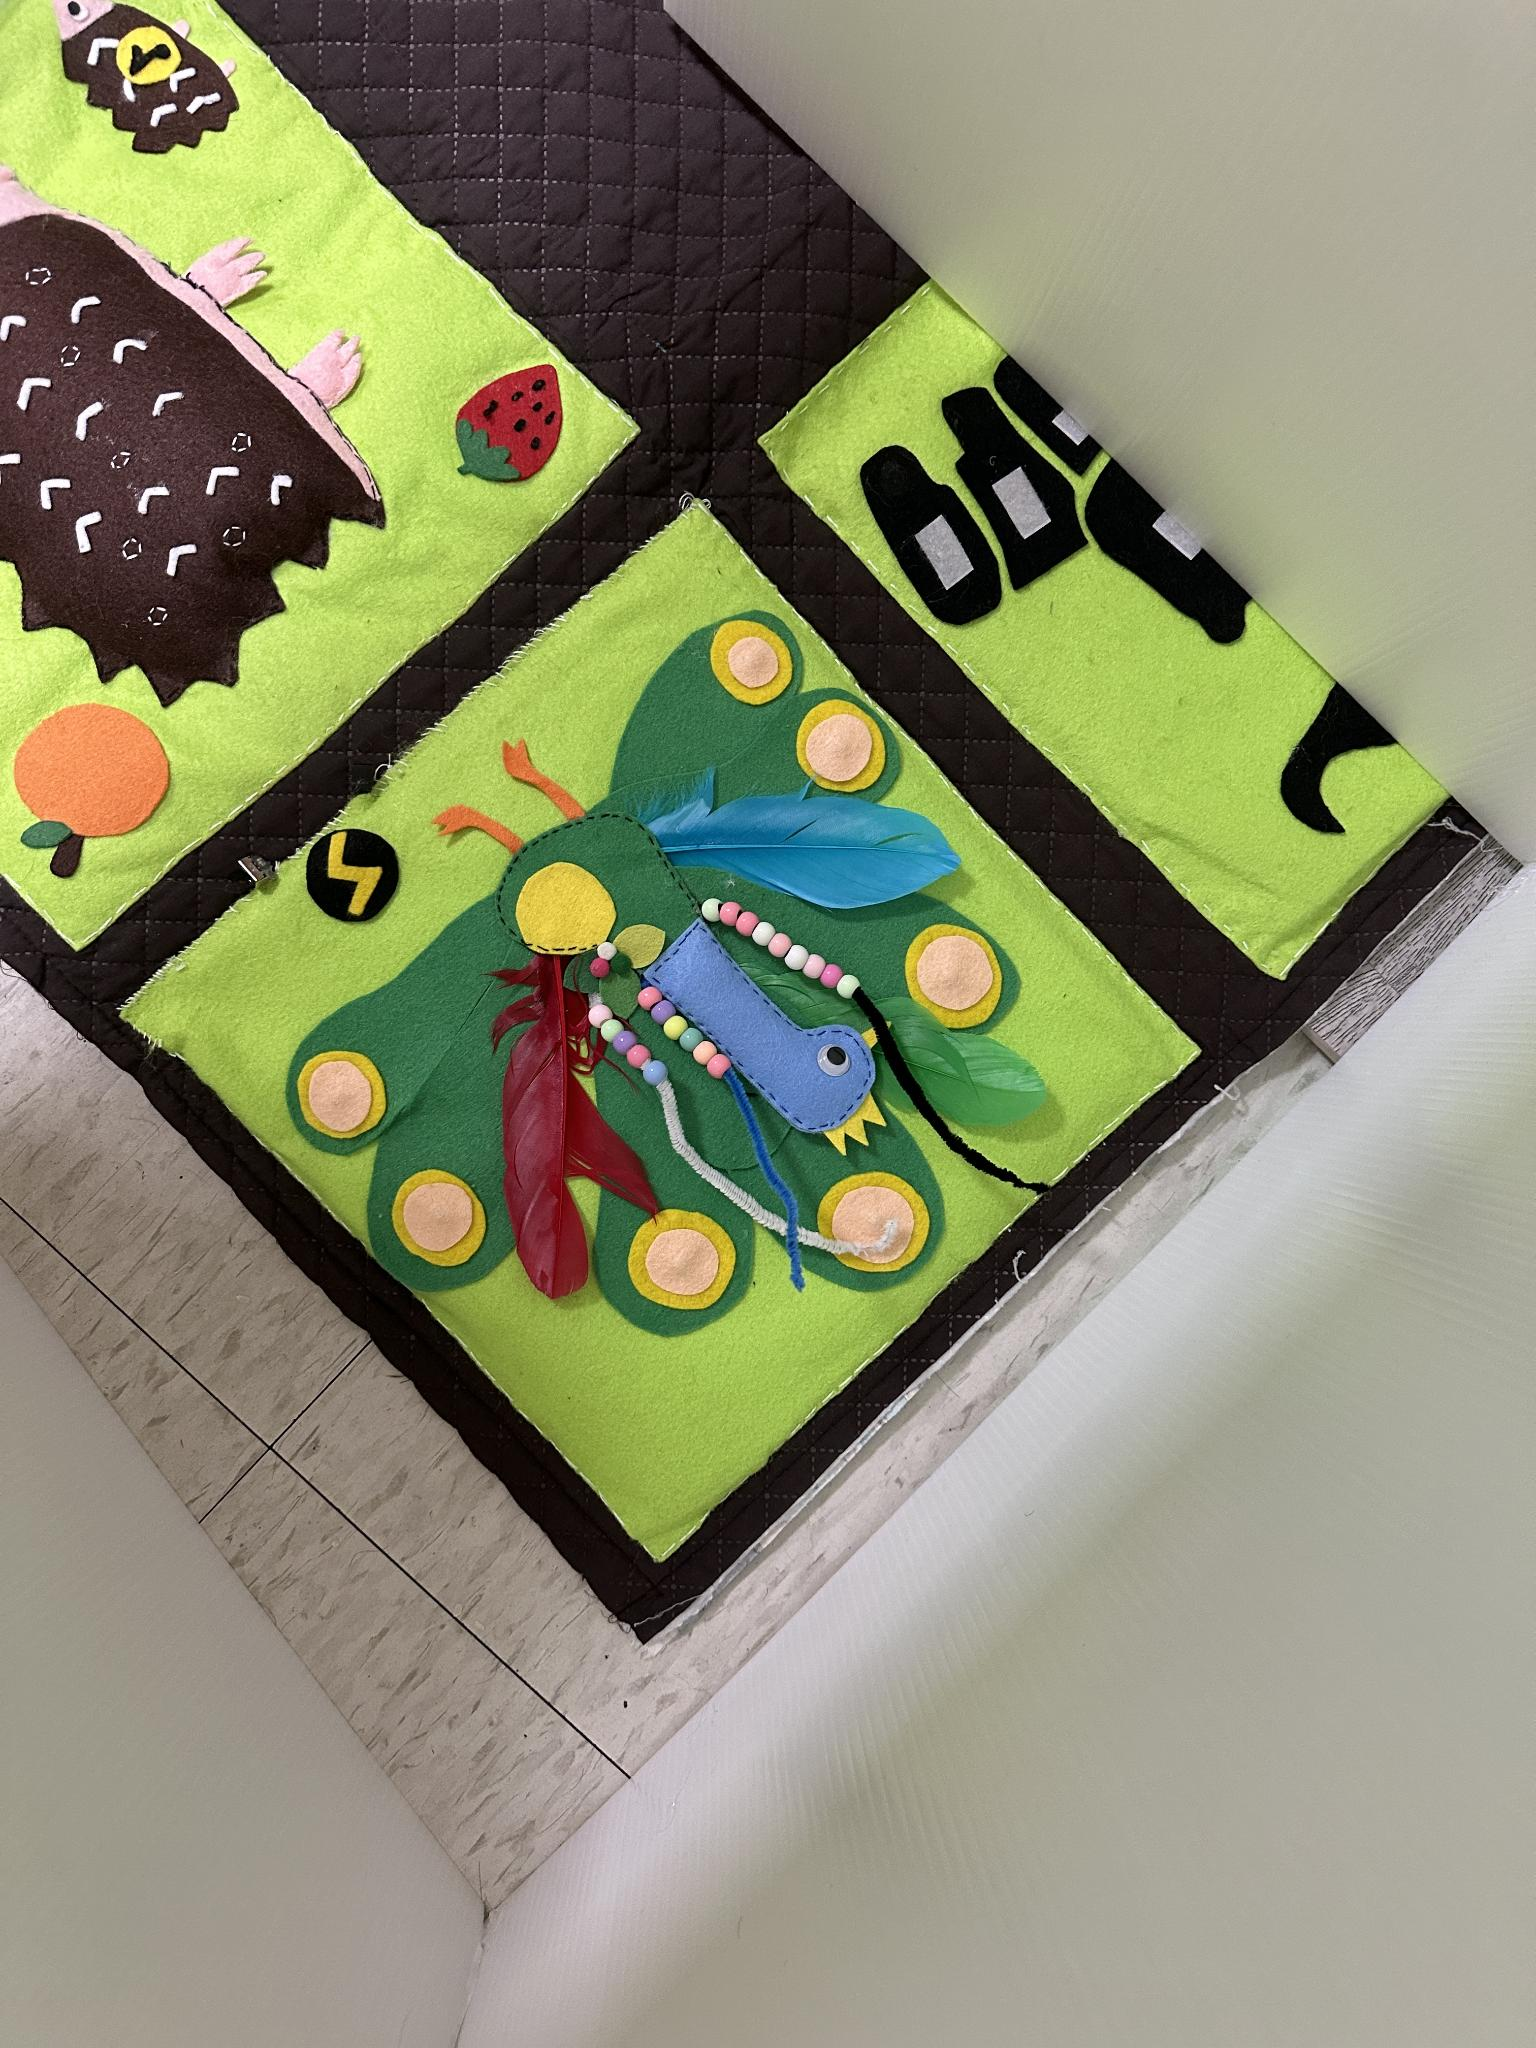bead: (642, 1059, 668, 1085), (587, 1003, 615, 1027), (637, 985, 662, 1011), (663, 1014, 689, 1037), (692, 1039, 718, 1061), (708, 1051, 731, 1077), (678, 1026, 700, 1050), (752, 921, 776, 943), (784, 947, 808, 969), (624, 1045, 650, 1066), (821, 958, 841, 985), (721, 898, 742, 922), (737, 910, 758, 934), (602, 1018, 623, 1040), (700, 898, 721, 921), (807, 953, 826, 977), (839, 974, 860, 995), (653, 1000, 673, 1021), (771, 934, 791, 955), (618, 1030, 634, 1051)
